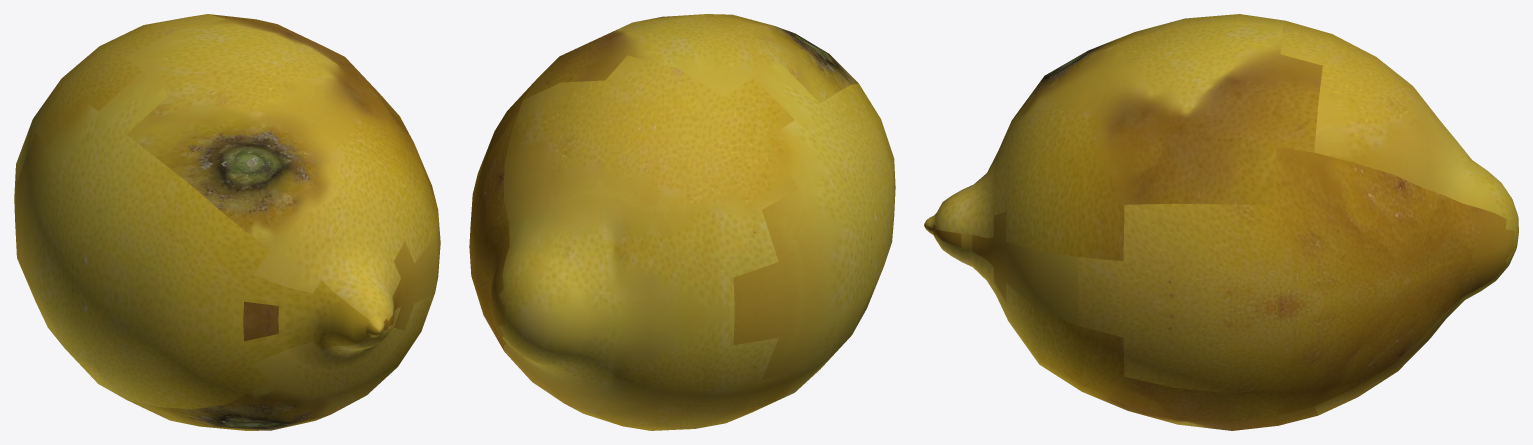
3 renders of one model, left to right at view 1: azimuth 30°, elevation 25°; view 2: azimuth 150°, elevation 25°; view 3: azimuth 270°, elevation 25°, orthographic.
Bounding box in the file's own units: 0.6927 × 0.6933 × 1.
